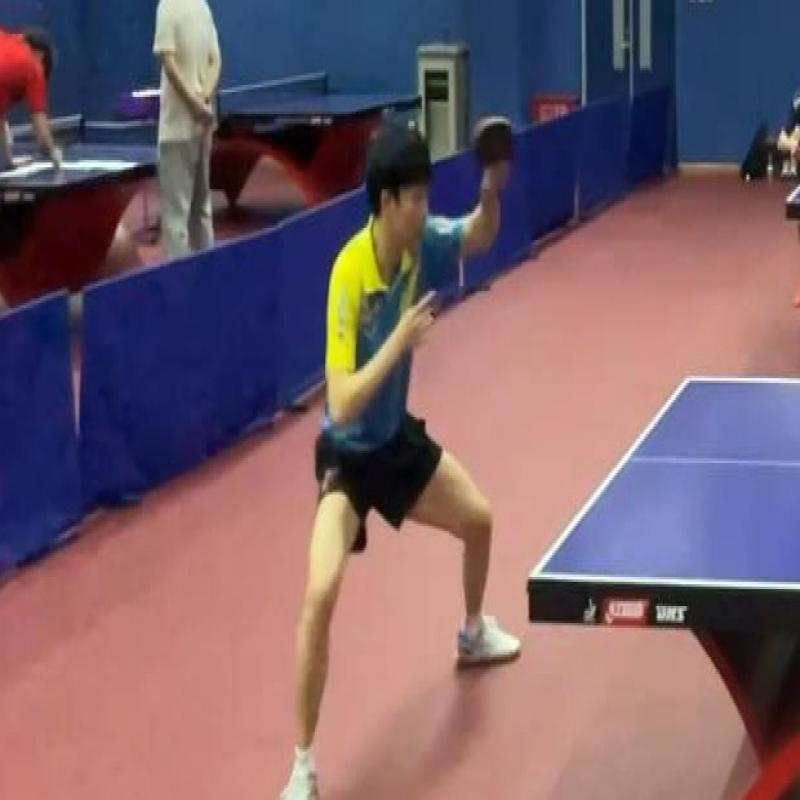bats: (466, 106, 519, 182)
